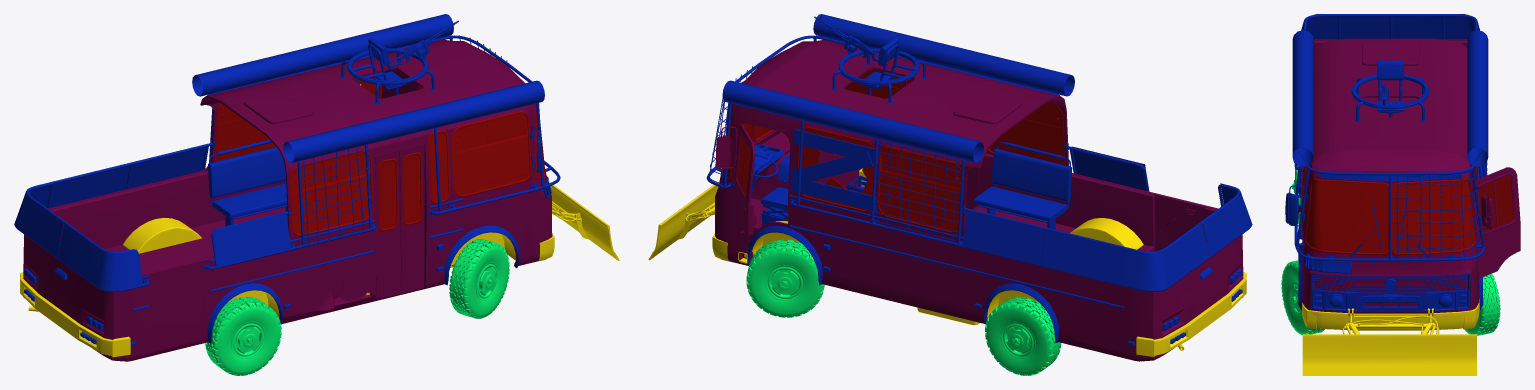
File: paz_zombie.fbx
3 views of the same model, side by side, from view 1: azimuth 30°, elevation 25°; view 2: azimuth 150°, elevation 25°; view 3: azimuth 270°, elevation 25° (orthographic). The views are drawn at different scales.
Parts seen in each view (by area): view 1: Object153, Object065, Object128, Object156, Box094; view 2: Object153, Object065, Object128, Object156, Box094; view 3: Object153, Object065, Object128, Box094, Object156.
Part boxes in pixels (<box>): Object153: <box>23,39,552,361</box>; Object065: <box>14,14,560,346</box>; Object128: <box>215,72,545,236</box>; Object156: <box>205,239,509,375</box>; Box094: <box>20,181,619,357</box>; Object153: <box>715,40,1243,361</box>; Object065: <box>706,14,1252,345</box>; Object128: <box>721,69,1065,233</box>; Object156: <box>746,239,1061,375</box>; Box094: <box>648,168,1246,356</box>; Object153: <box>1298,38,1520,313</box>; Object065: <box>1285,14,1488,311</box>; Object128: <box>1301,166,1513,255</box>; Box094: <box>1302,299,1479,375</box>; Object156: <box>1281,166,1500,335</box>.
Size of the model in its own units: 77.73 by 37.25 by 32.35.
